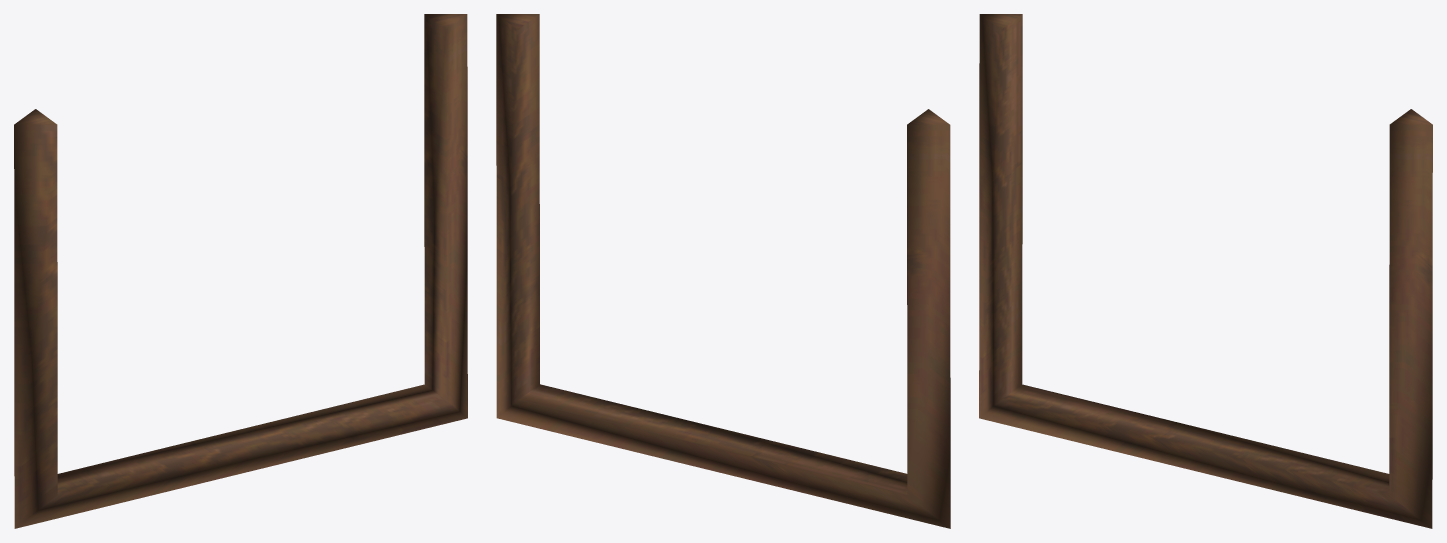
Rendered from INST_SWORDLIGHT_BRKT14M.fbx.
The picture shows the model from 3 angles, left to right: view 1: azimuth 30°, elevation 25°; view 2: azimuth 150°, elevation 25°; view 3: azimuth 330°, elevation 25°; orthographic projection.
Visible parts, largest first — view 1: INST_SWORDLIGHT_BRKT14M; view 2: INST_SWORDLIGHT_BRKT14M; view 3: INST_SWORDLIGHT_BRKT14M.
Part boxes in pixels (x1,y1,x2,y2): INST_SWORDLIGHT_BRKT14M: (14,14,467,528); INST_SWORDLIGHT_BRKT14M: (496,14,950,528); INST_SWORDLIGHT_BRKT14M: (979,14,1432,528).
Size of the model in its own units: 18154 by 15463 by 1529.
Materials: 1 (1 with a texture image).
